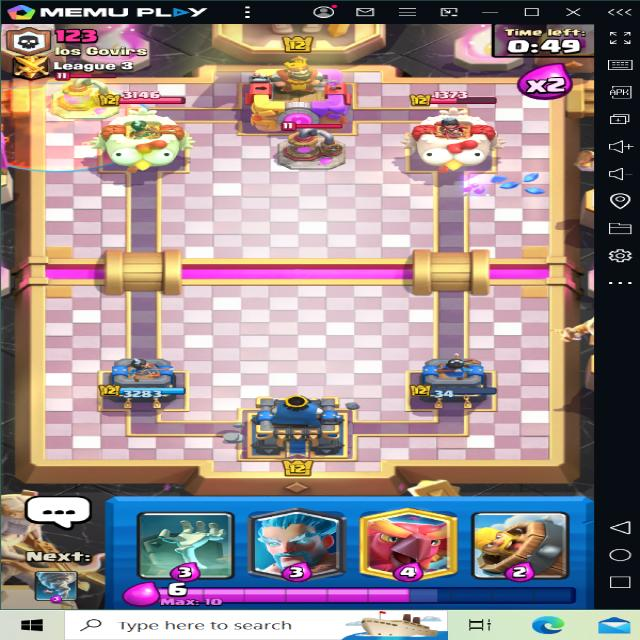elixir-collector: (276, 123, 356, 173), (53, 74, 119, 122)
